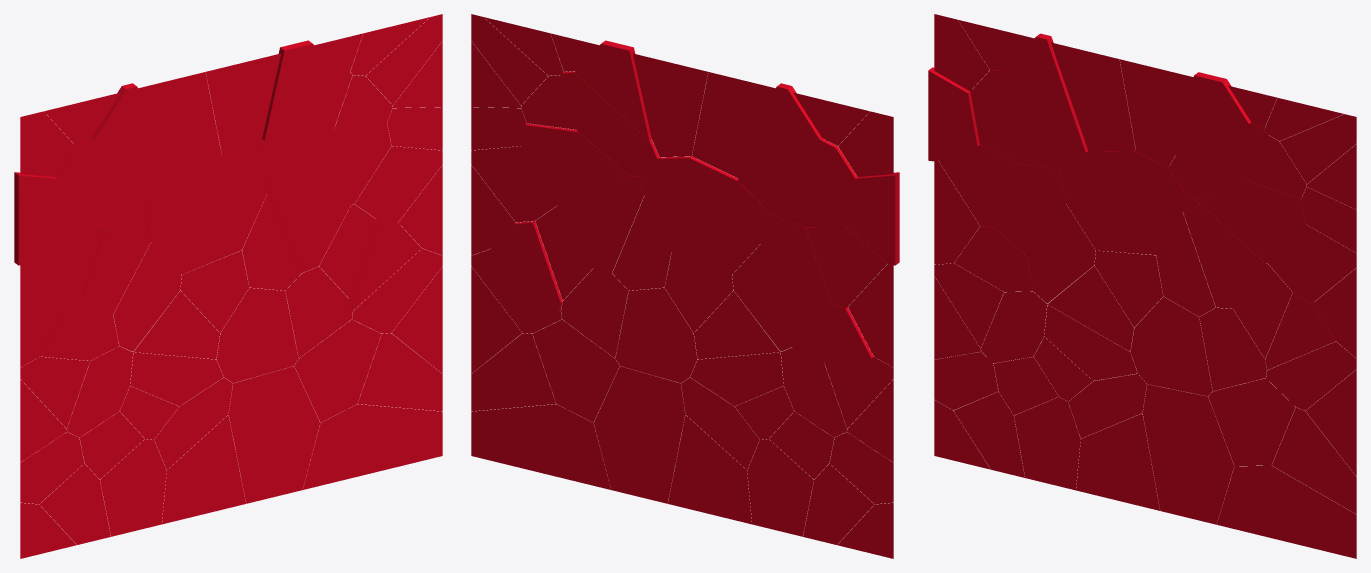
Rendered from RedShatteredWall.fbx.
3 renders of one model, left to right at view 1: azimuth 30°, elevation 25°; view 2: azimuth 150°, elevation 25°; view 3: azimuth 330°, elevation 25°, orthographic.
Parts seen in each view (by area): view 1: Wall_cell.017, Wall_cell.027, Wall_cell.035, Wall_cell.029, Wall_cell.026, Wall_cell.009, Wall_cell.016, Wall_cell.004, Wall_cell.036, Wall_cell.041, Wall_cell.025, Wall_cell.031 (+38 smaller); view 2: Wall_cell.017, Wall_cell.027, Wall_cell.035, Wall_cell.029, Wall_cell.026, Wall_cell.009, Wall_cell.036, Wall_cell.041, Wall_cell.016, Wall_cell.004, Wall_cell.025, Wall_cell.031 (+38 smaller); view 3: Wall_cell.017, Wall_cell.027, Wall_cell.035, Wall_cell.026, Wall_cell.029, Wall_cell.009, Wall_cell.004, Wall_cell.025, Wall_cell.041, Wall_cell.016, Wall_cell.036, Wall_cell.031 (+38 smaller).
Boxes of the visible parts, left/top/right/bottom form: Wall_cell.017: left=145, top=156, right=272, bottom=274; Wall_cell.027: left=228, top=366, right=320, bottom=503; Wall_cell.035: left=303, top=404, right=442, bottom=489; Wall_cell.029: left=216, top=288, right=298, bottom=383; Wall_cell.026: left=138, top=72, right=221, bottom=178; Wall_cell.009: left=162, top=415, right=245, bottom=524; Wall_cell.016: left=205, top=53, right=280, bottom=157; Wall_cell.004: left=294, top=319, right=381, bottom=422; Wall_cell.036: left=56, top=138, right=150, bottom=225; Wall_cell.041: left=280, top=123, right=391, bottom=204; Wall_cell.025: left=92, top=83, right=176, bottom=203; Wall_cell.031: left=100, top=439, right=166, bottom=536; Wall_cell.017: left=639, top=156, right=766, bottom=276; Wall_cell.027: left=593, top=366, right=685, bottom=503; Wall_cell.035: left=471, top=404, right=610, bottom=489; Wall_cell.029: left=615, top=288, right=697, bottom=383; Wall_cell.026: left=692, top=72, right=775, bottom=178; Wall_cell.009: left=668, top=415, right=751, bottom=524; Wall_cell.036: left=761, top=138, right=857, bottom=227; Wall_cell.041: left=520, top=123, right=631, bottom=206; Wall_cell.016: left=633, top=53, right=708, bottom=157; Wall_cell.004: left=532, top=319, right=619, bottom=422; Wall_cell.025: left=737, top=83, right=821, bottom=203; Wall_cell.031: left=747, top=439, right=813, bottom=536; Wall_cell.017: left=1059, top=151, right=1186, bottom=254; Wall_cell.027: left=1142, top=384, right=1234, bottom=524; Wall_cell.035: left=1216, top=465, right=1356, bottom=558; Wall_cell.026: left=1051, top=42, right=1135, bottom=151; Wall_cell.029: left=1130, top=296, right=1212, bottom=396; Wall_cell.009: left=1076, top=413, right=1159, bottom=510; Wall_cell.004: left=1208, top=378, right=1295, bottom=466; Wall_cell.025: left=1003, top=33, right=1087, bottom=164; Wall_cell.041: left=1194, top=180, right=1305, bottom=263; Wall_cell.016: left=1119, top=59, right=1193, bottom=167; Wall_cell.036: left=970, top=70, right=1063, bottom=168; Wall_cell.031: left=1014, top=397, right=1080, bottom=490.
Size of the model in its own units: 542 by 542 by 10.1.
